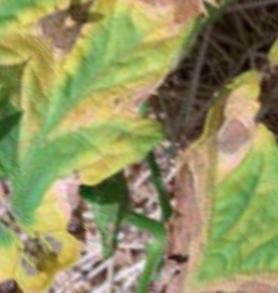Tomato Early blight leaf: (0, 0, 259, 257), (94, 65, 278, 293)
